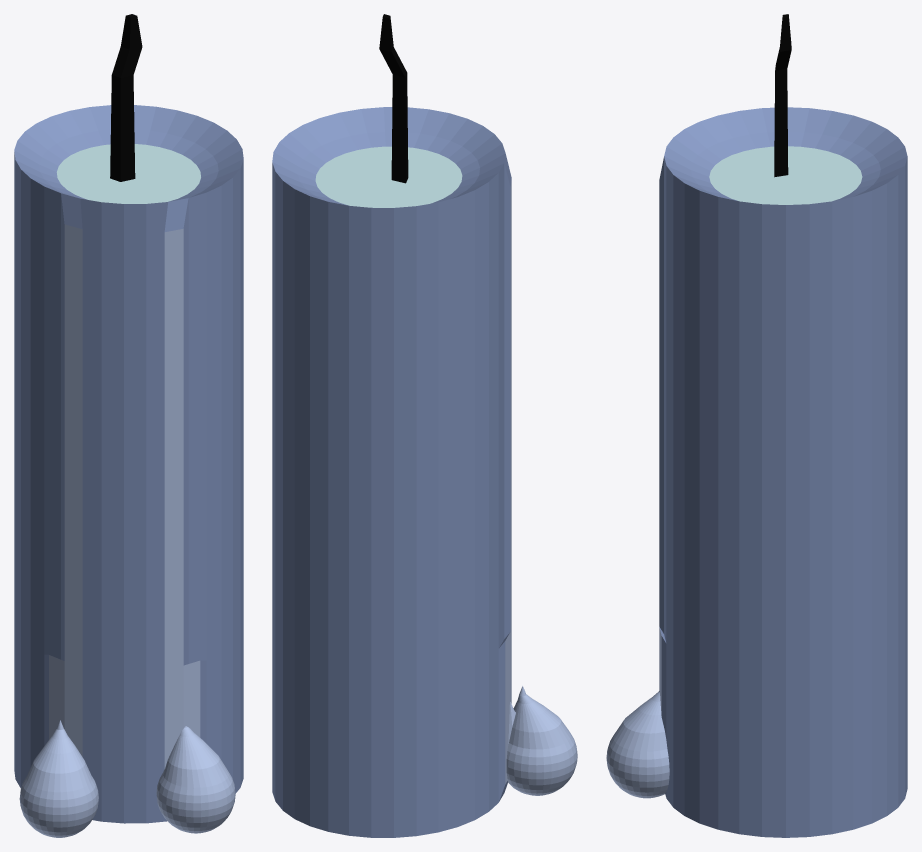
File: vela1.fbx
3 renders of one model, left to right at view 1: azimuth 30°, elevation 25°; view 2: azimuth 150°, elevation 25°; view 3: azimuth 270°, elevation 25°, orthographic. The views are drawn at different scales.
Parts seen in each view (by area): view 1: Sphere.001; view 2: Sphere.001; view 3: Sphere.001.
Boxes of the visible parts, left/top/right/bottom form: Sphere.001: left=14, top=14, right=243, bottom=837; Sphere.001: left=272, top=14, right=577, bottom=837; Sphere.001: left=606, top=14, right=907, bottom=837.
Size of the model in its own units: 80.79 by 245 by 85.82.
